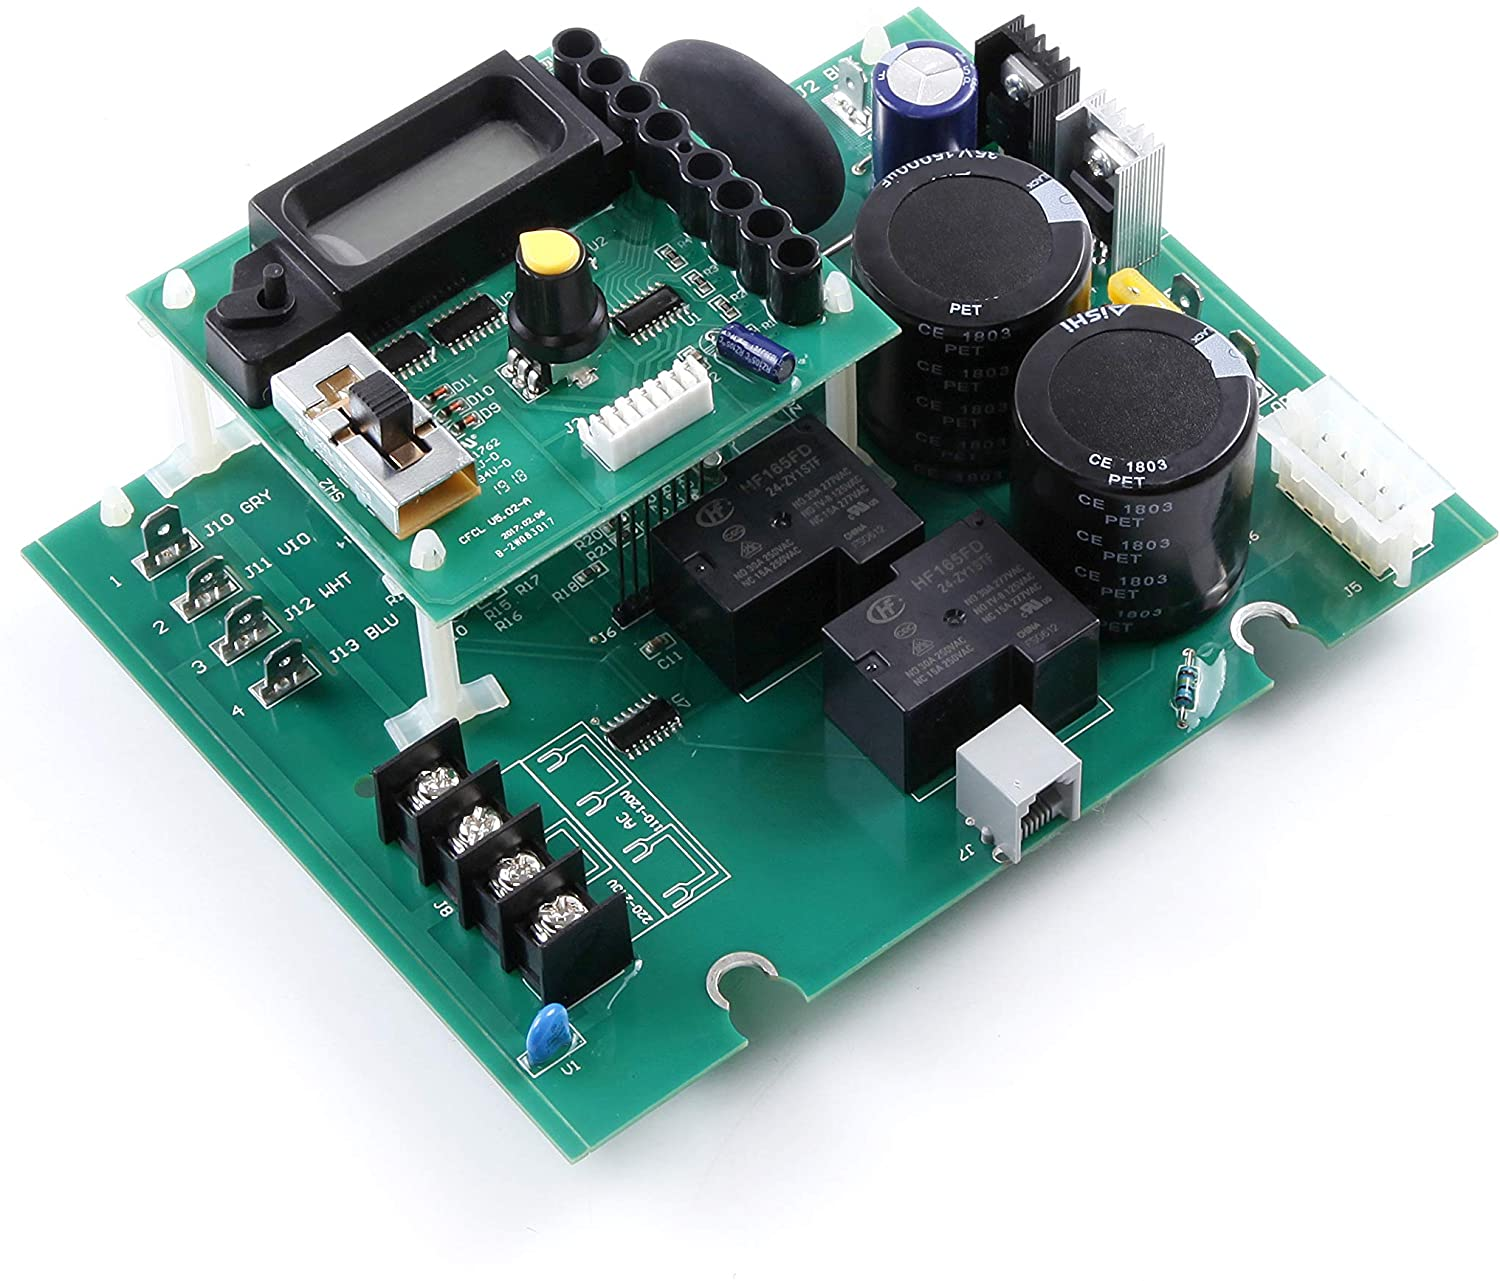capacitor: (1018, 269, 1300, 661), (847, 130, 1097, 480), (872, 32, 988, 150)
